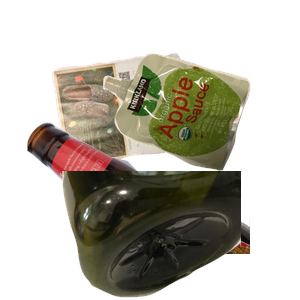glass: (25, 120, 265, 300)
paper: (49, 51, 235, 212)
plastic: (60, 171, 300, 300)
trash: (100, 51, 300, 214)
